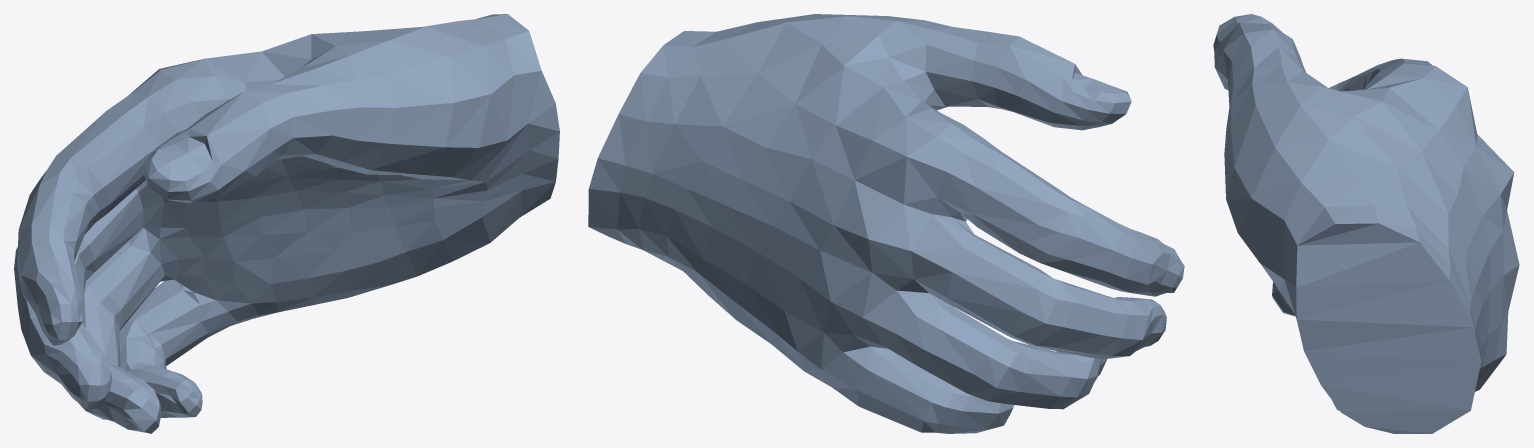
The model's file is frame_00016_0.obj.
3 views of the same model, side by side, from view 1: azimuth 30°, elevation 25°; view 2: azimuth 150°, elevation 25°; view 3: azimuth 270°, elevation 25° (orthographic). The views are drawn at different scales.
Size of the model in its own units: 0.1604 by 0.1016 by 0.078.
